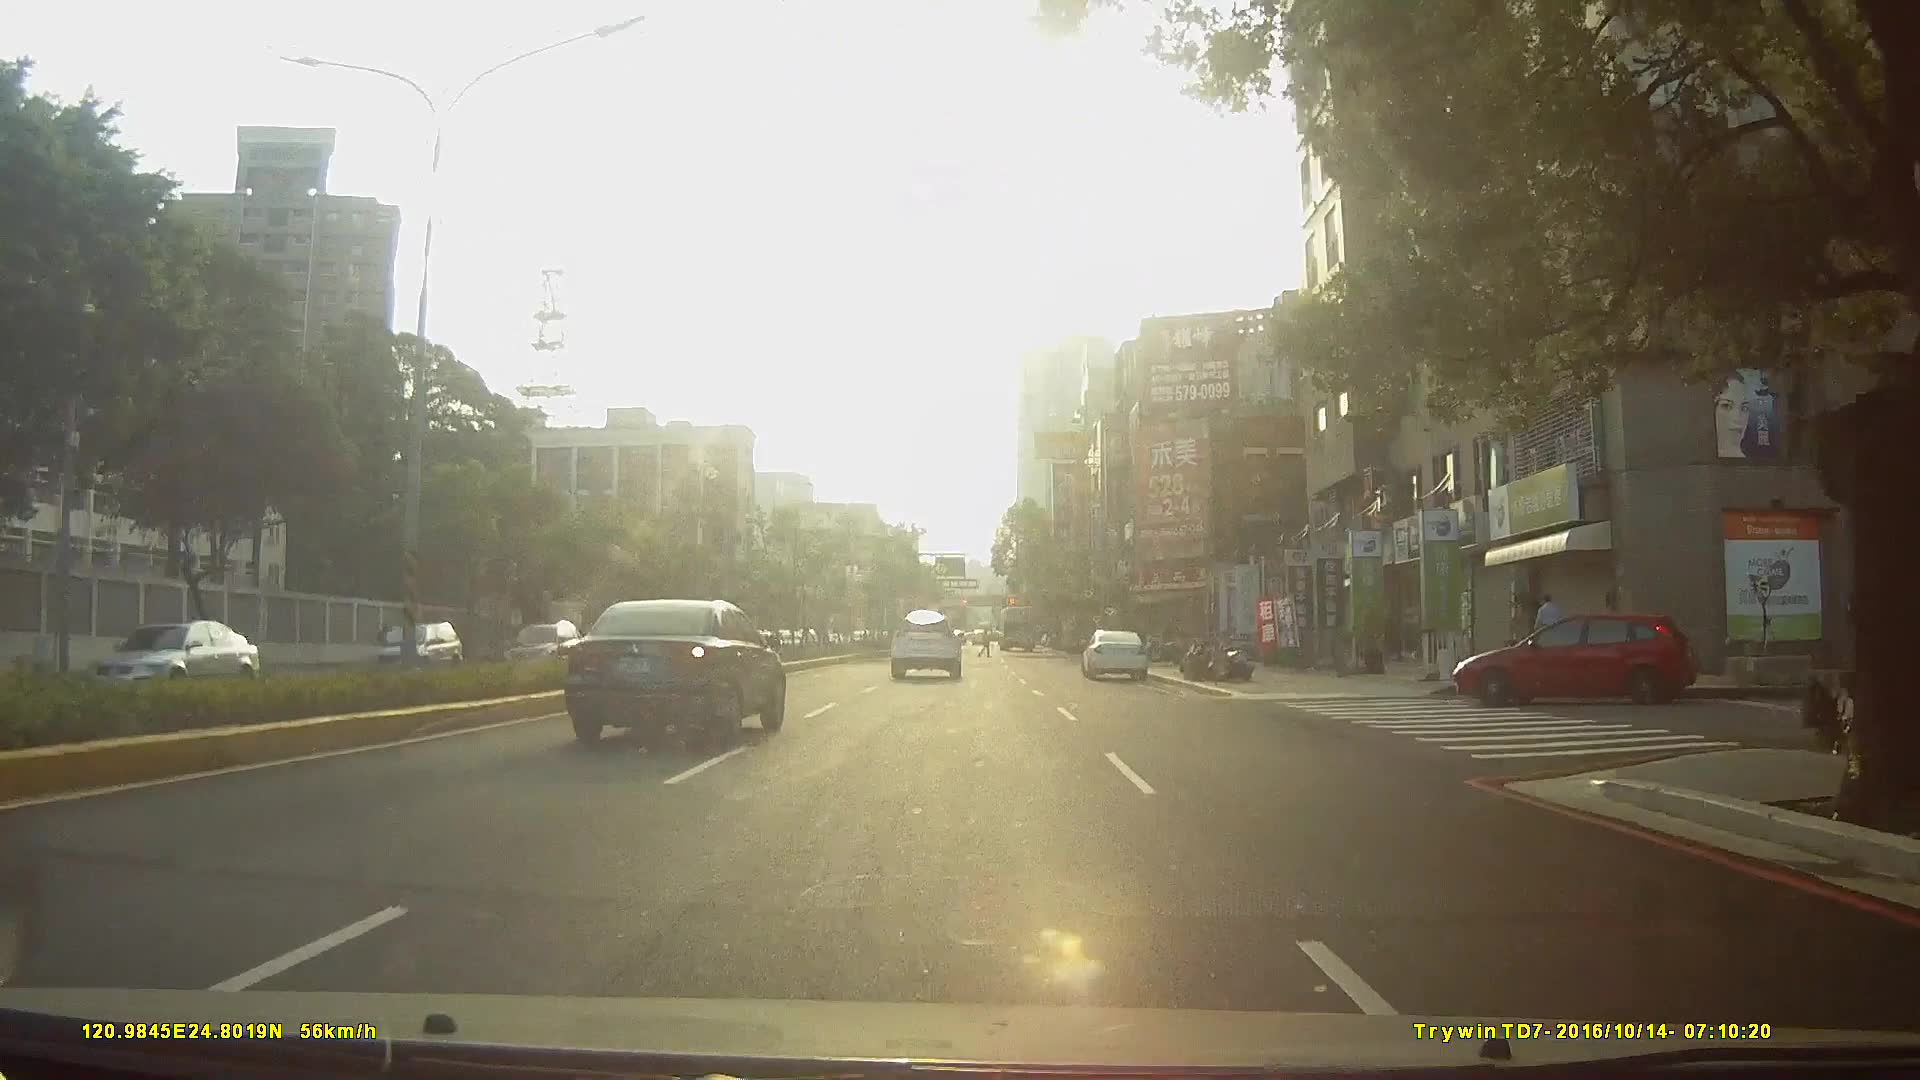pedestrian: (1535, 595, 1565, 667)
vehicle: (569, 596, 789, 741), (1445, 605, 1708, 712), (83, 616, 260, 701), (364, 610, 470, 673), (887, 609, 962, 680), (490, 620, 576, 677), (1079, 627, 1151, 679), (994, 604, 1038, 653)
